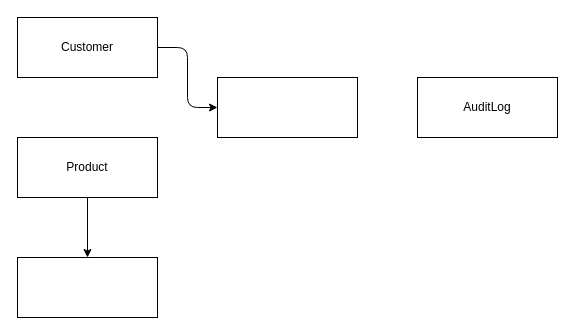
Image size: 575x335. Some labels were removed from this diagram. Each missing label, with the centre of its shape:
Category: the point at 87,287
Order: the point at 287,107
